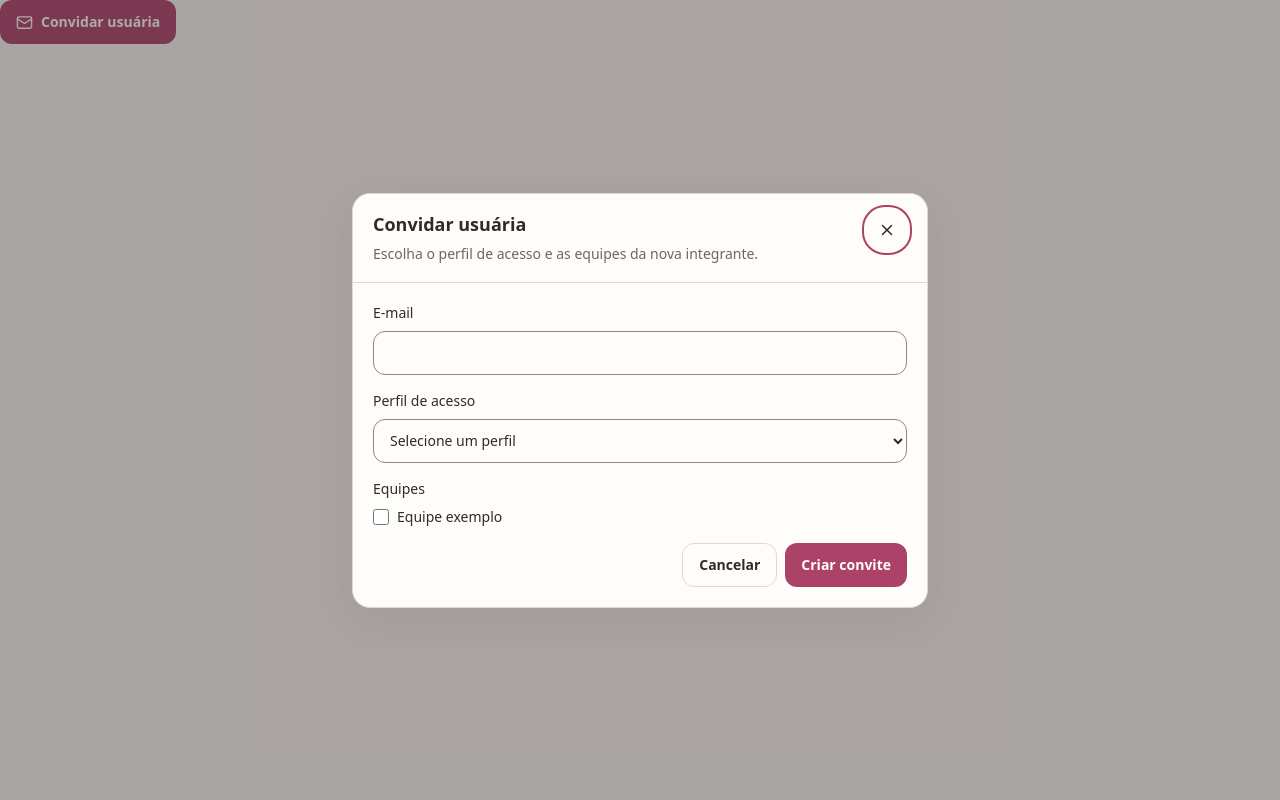
Test: informa ENVIADO sem perder o link de uso único
Type "integrante@example.test" into the field labelled "E-mail". click: (640, 352)
box: [373,330,907,374]
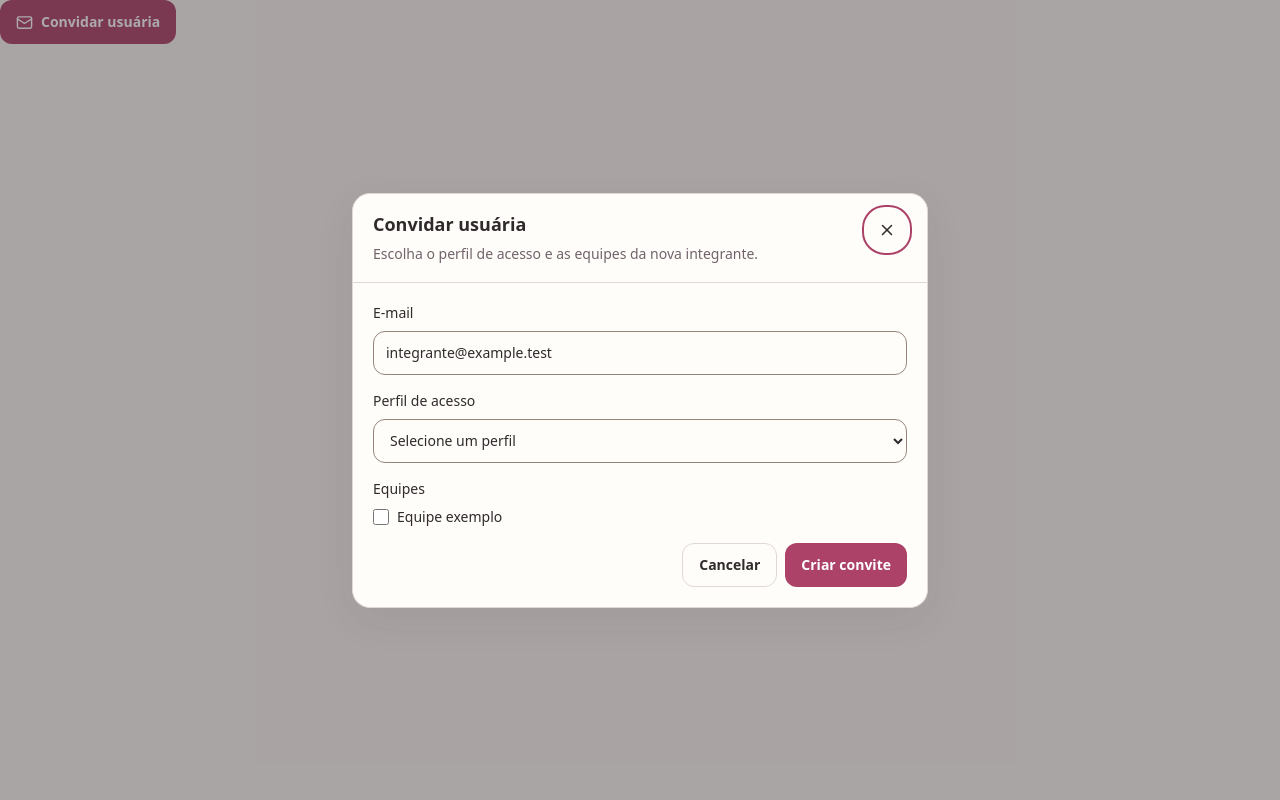
Select "Suporte" in the dropdown labelled "Perfil de acesso". click: (640, 440)
box: [373,418,907,462]
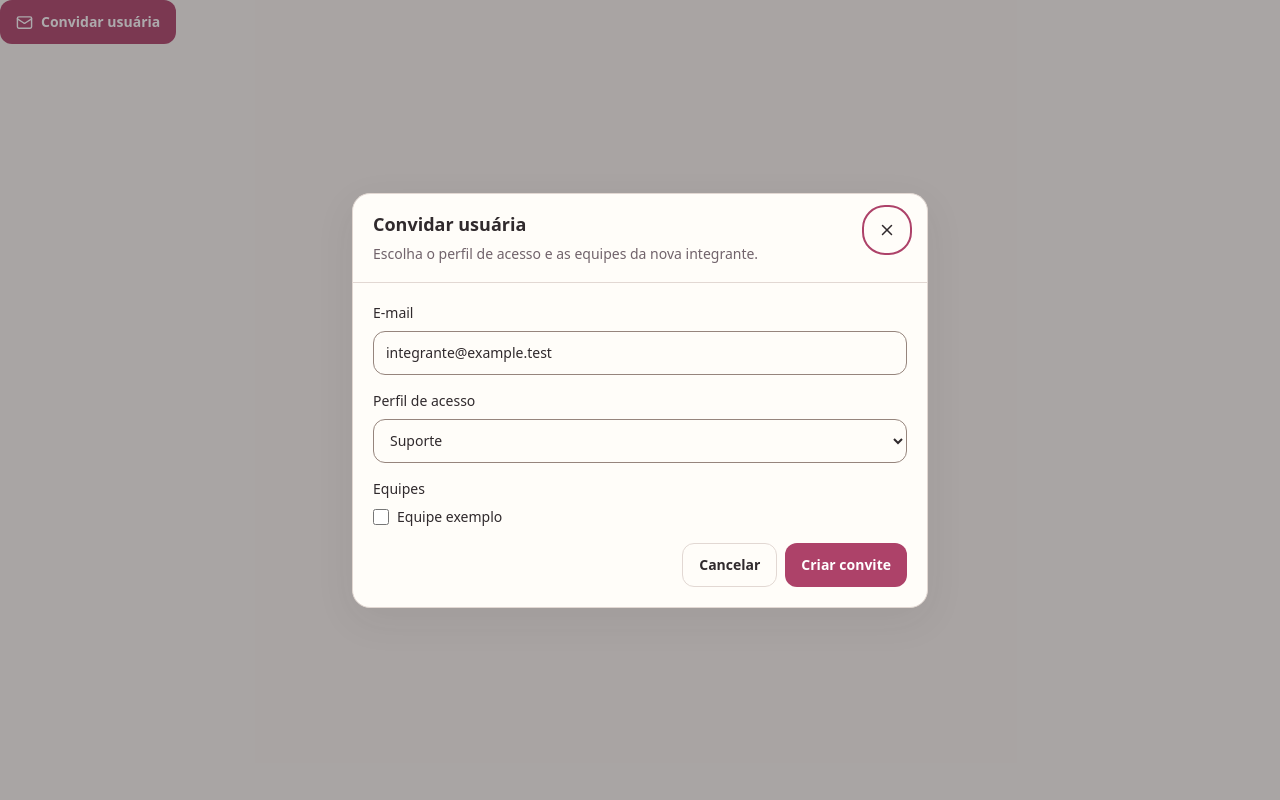
Click the checkbox labelled "Equipe exemplo". click: (381, 516)
box: [373,508,389,524]
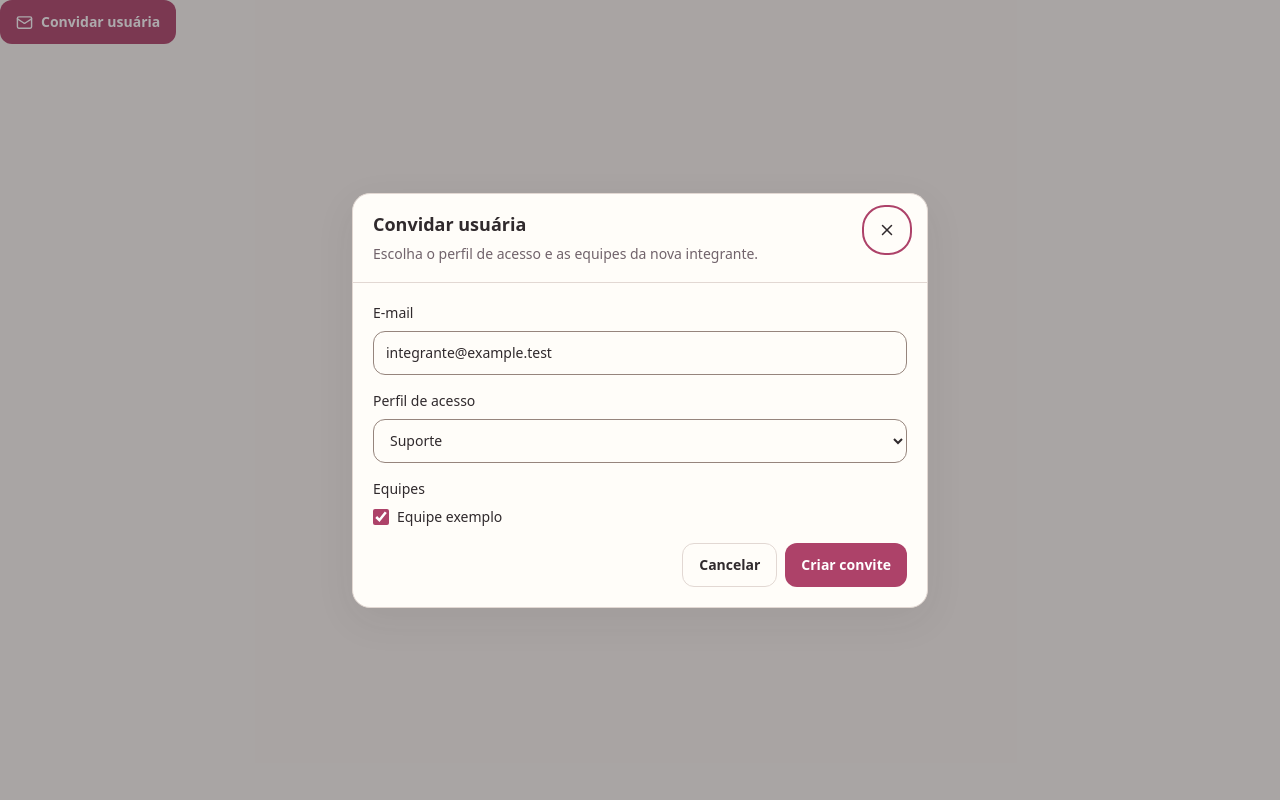
Click the button "Criar convite". click: (846, 564)
box: [785,542,907,586]
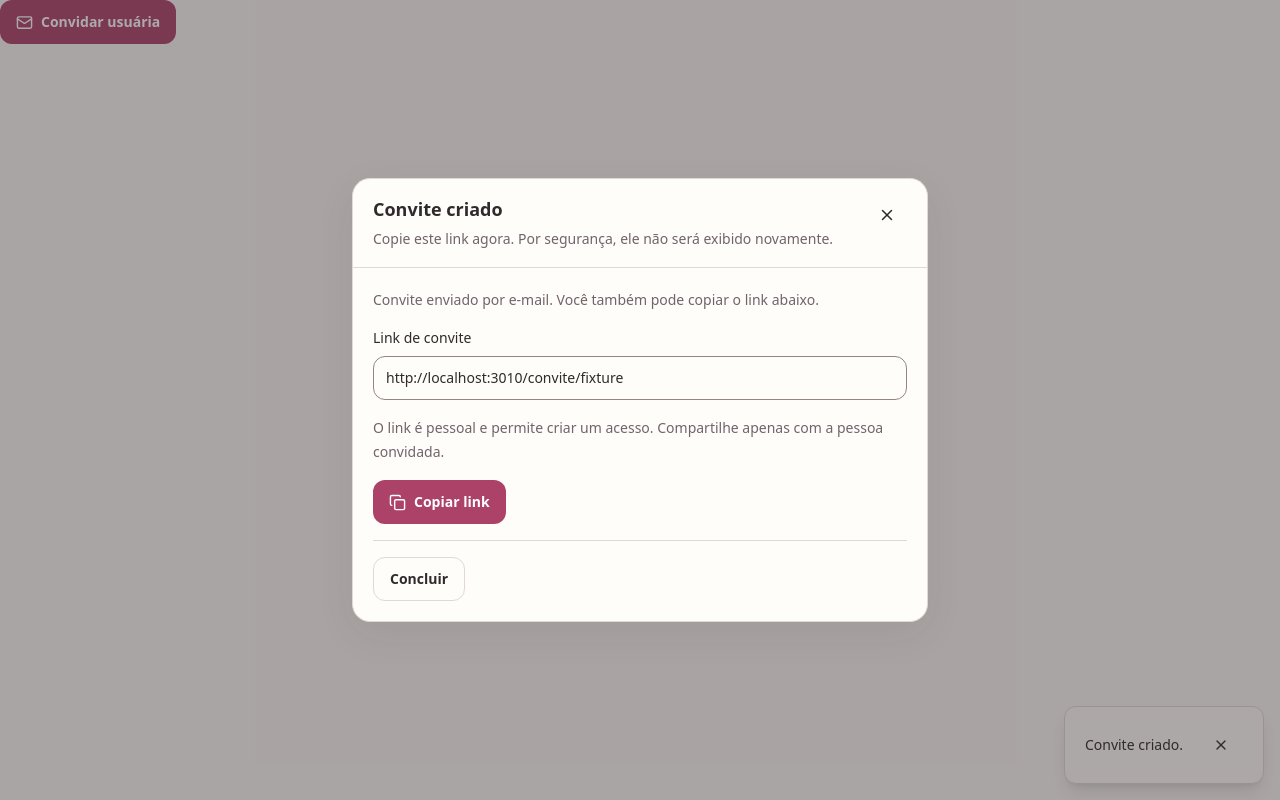
Result: the text "Convite enviado por e-mail. Você também pode copiar o link abaixo." is shown at [373,290,819,309]
Result: the field labelled "Link de convite" holds "http://localhost:3010/convite/fixture" at [373,356,907,400]
